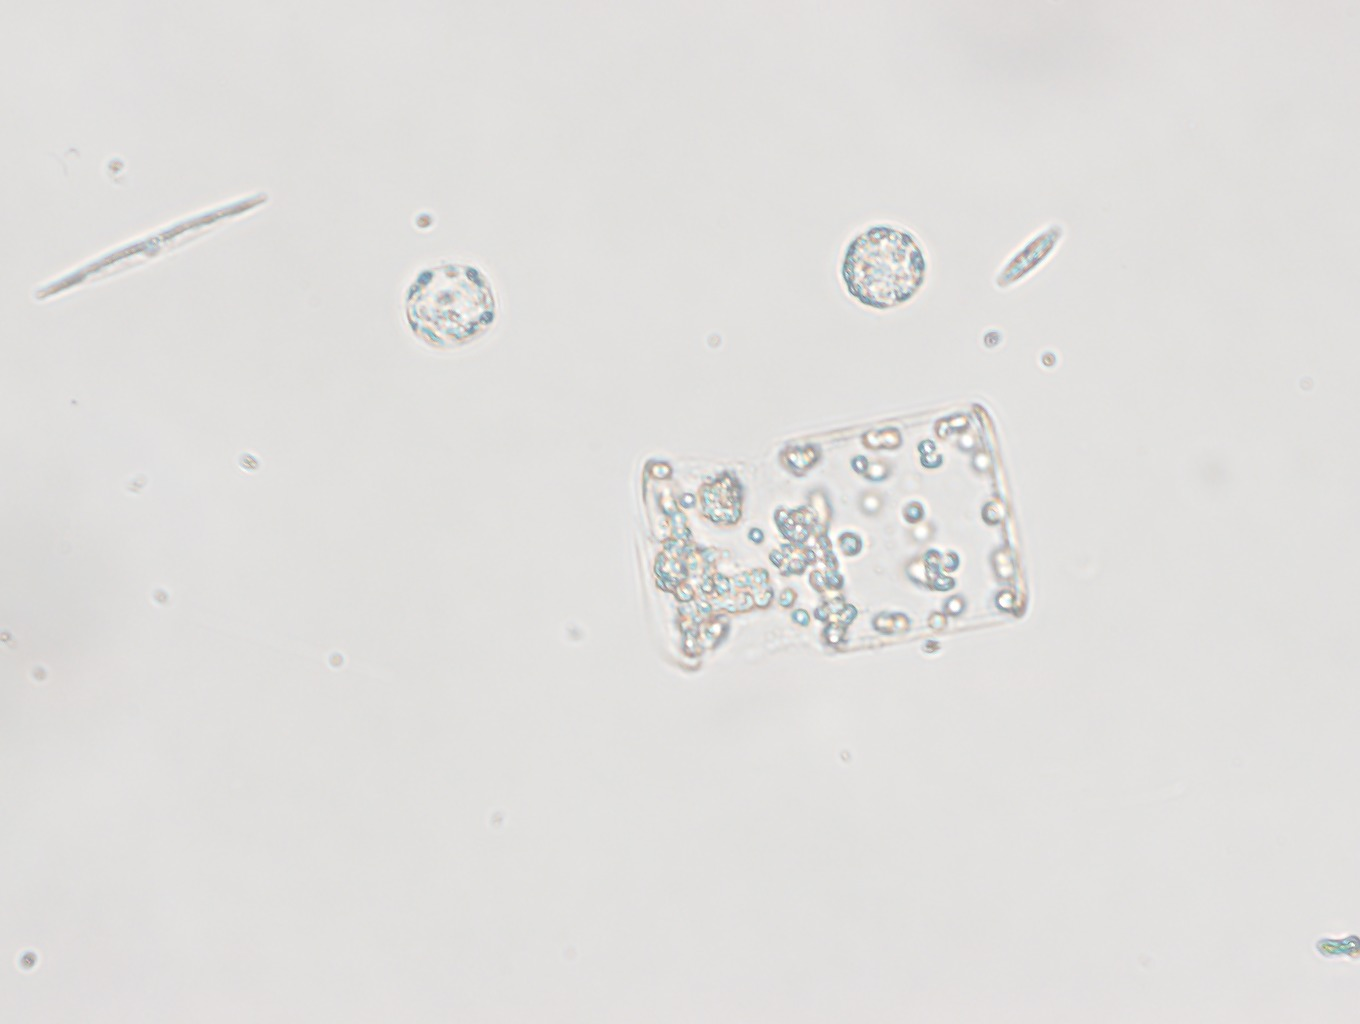guinardia flaccida: (636, 398, 1027, 672)
navicula: (32, 191, 275, 308)
